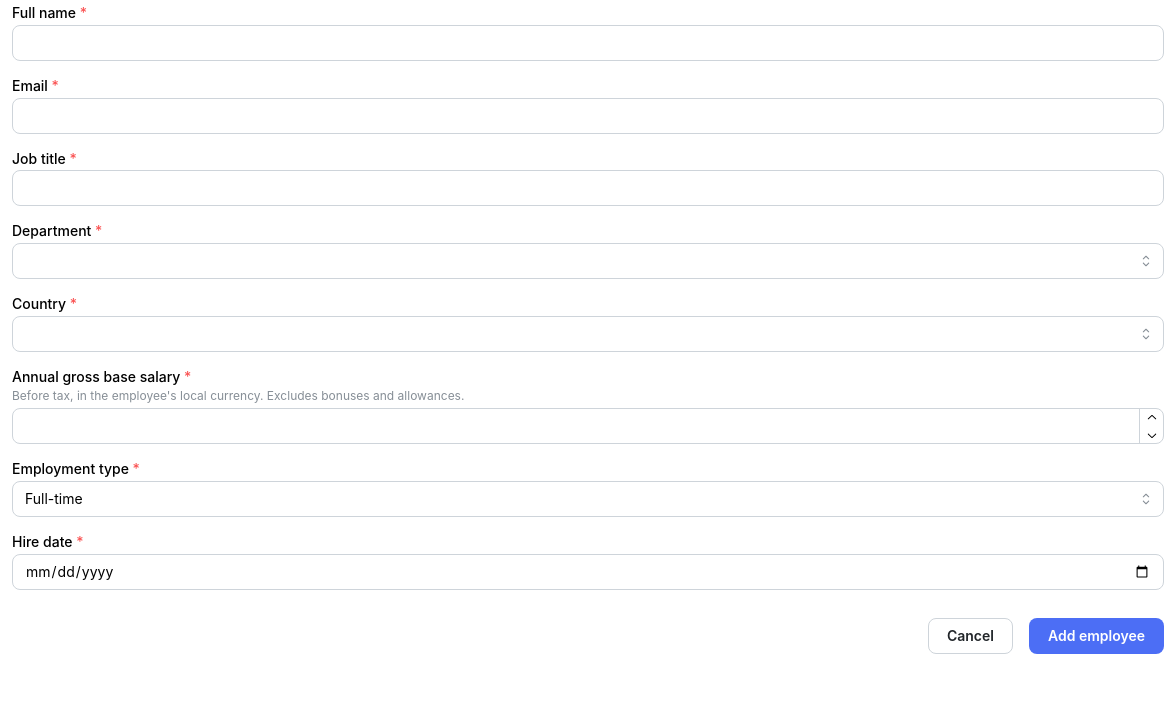
Test case: EmployeeForm › shows validation messages and does not submit an empty form
Step 1. Click the button "Add employee" → (1096, 636), box top-left (1029, 618), bottom-right (1164, 654)
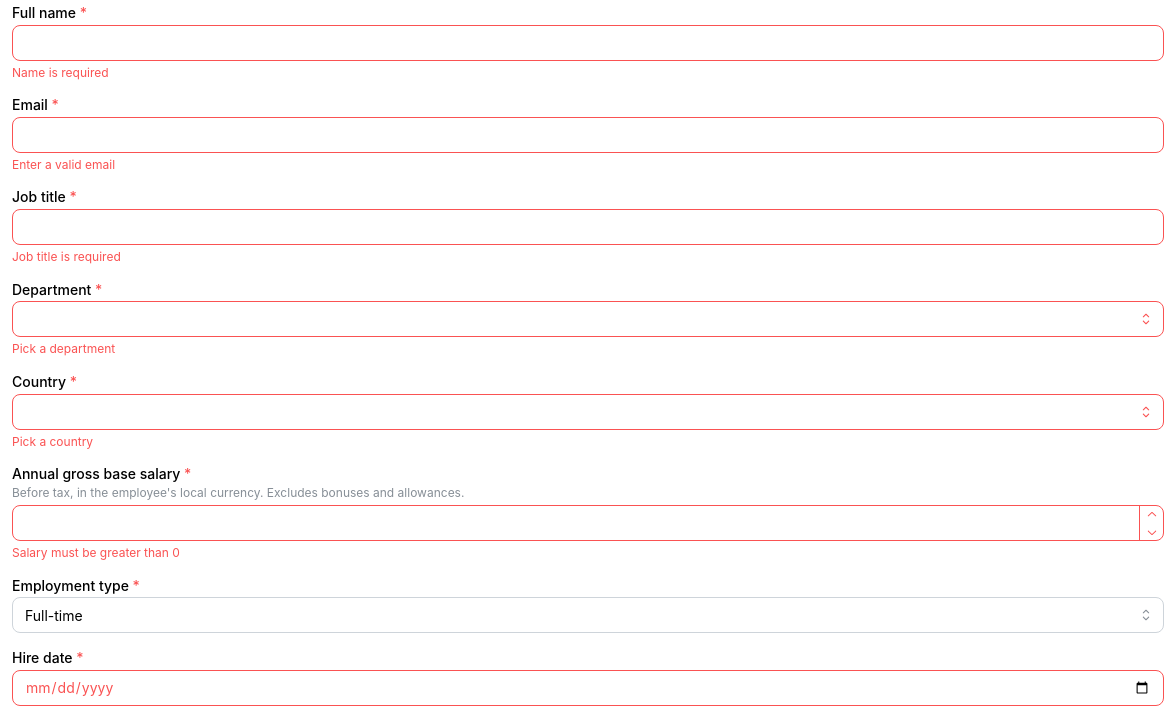
Check: the text "Name is required" is shown, box top-left (12, 65), bottom-right (109, 80)
Check: the text "Enter a valid email" is shown, box top-left (12, 157), bottom-right (115, 172)
Check: the text "Salary must be greater than 0" is shown, box top-left (12, 545), bottom-right (180, 560)
